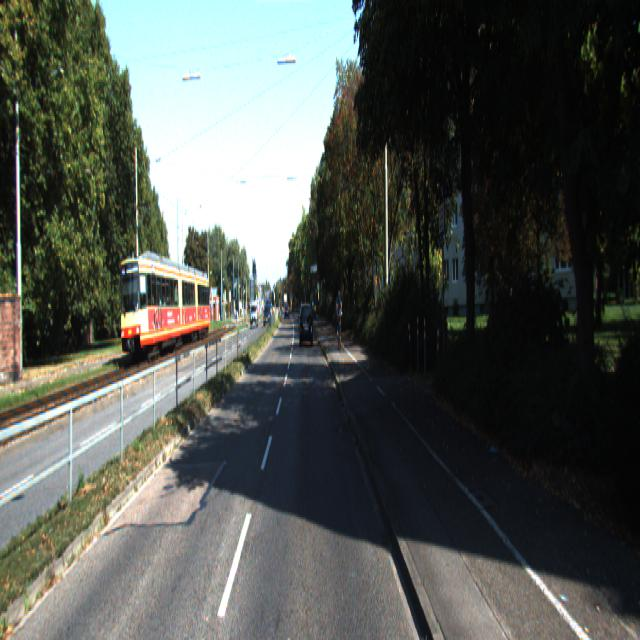Car: (120, 255, 211, 366), (300, 305, 314, 349)
